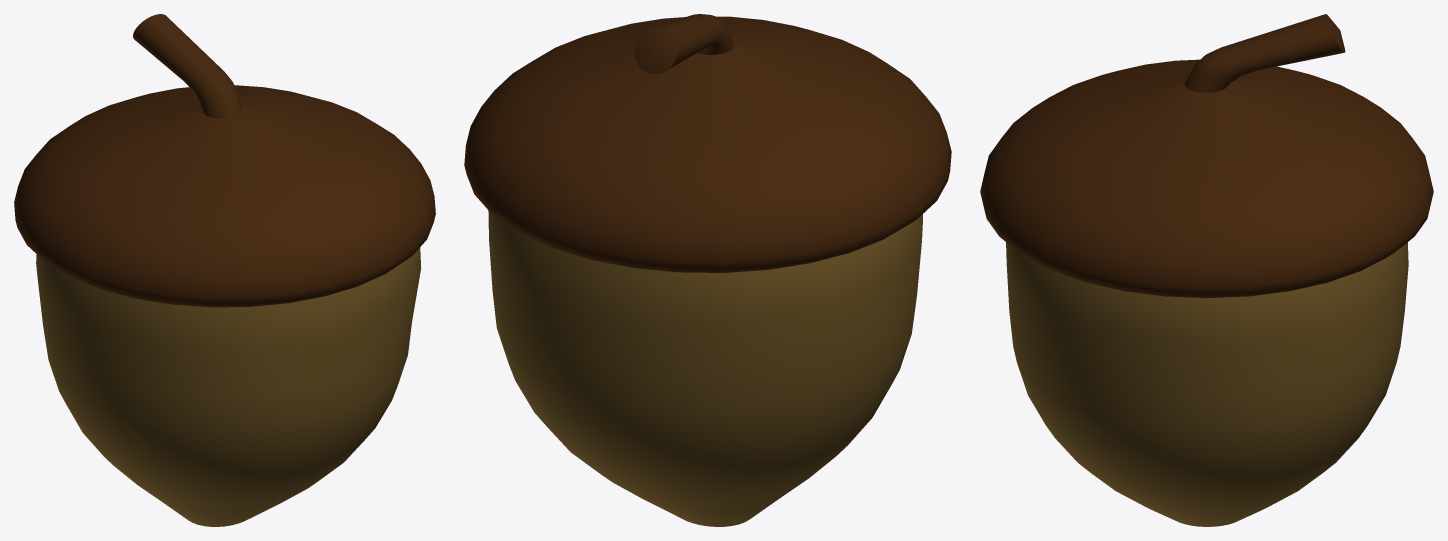
Rendered from Nut.fbx.
3 views of the same model, side by side, from view 1: azimuth 30°, elevation 25°; view 2: azimuth 150°, elevation 25°; view 3: azimuth 270°, elevation 25° (orthographic). The views are drawn at different scales.
Visible parts, largest first — view 1: Sphere.009, Sphere.008; view 2: Sphere.009, Sphere.008; view 3: Sphere.009, Sphere.008.
Boxes of the visible parts, left/top/right/bottom form: Sphere.009: left=14, top=14, right=435, bottom=307; Sphere.008: left=36, top=247, right=421, bottom=526; Sphere.009: left=464, top=14, right=951, bottom=272; Sphere.008: left=488, top=210, right=922, bottom=526; Sphere.009: left=980, top=14, right=1433, bottom=298; Sphere.008: left=1006, top=242, right=1408, bottom=526.
Size of the model in its own units: 66.32 by 81.72 by 66.32.
